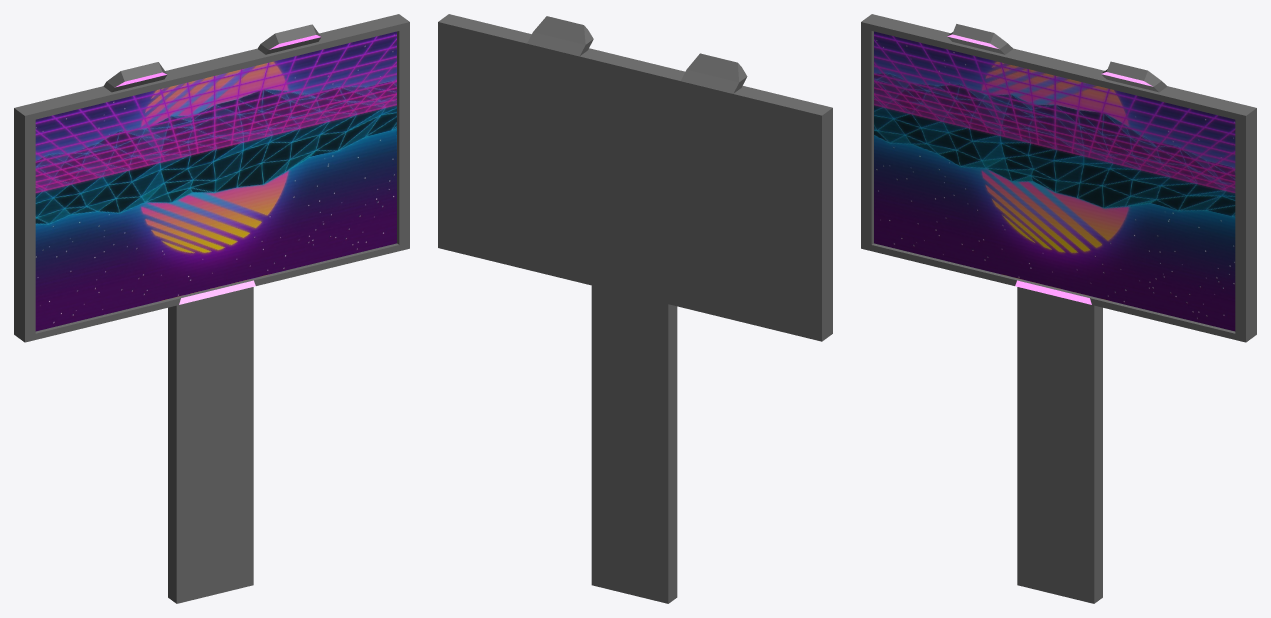
The model's file is Billboard.gltf.
3 views of the same model, side by side, from view 1: azimuth 30°, elevation 25°; view 2: azimuth 150°, elevation 25°; view 3: azimuth 330°, elevation 25° (orthographic).
Visible parts, largest first — view 1: Cube; view 2: Cube; view 3: Cube.
Boxes of the visible parts, box(x1,y1,x2,y2) form: Cube: box(14, 14, 409, 603); Cube: box(438, 14, 832, 603); Cube: box(861, 14, 1256, 603).
Size of the model in its own units: 8.68 by 11.83 by 0.595.
3 materials, 1 textured.
